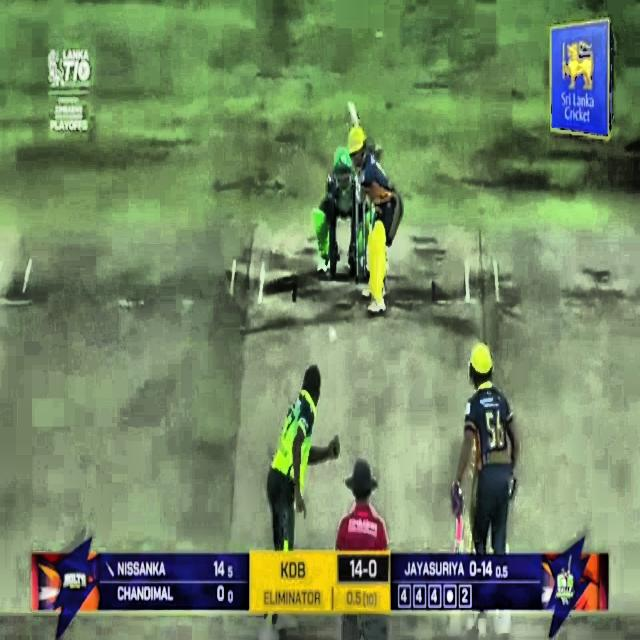Left-stump: (356, 204, 360, 280)
Middle-stump: (362, 203, 366, 284)
